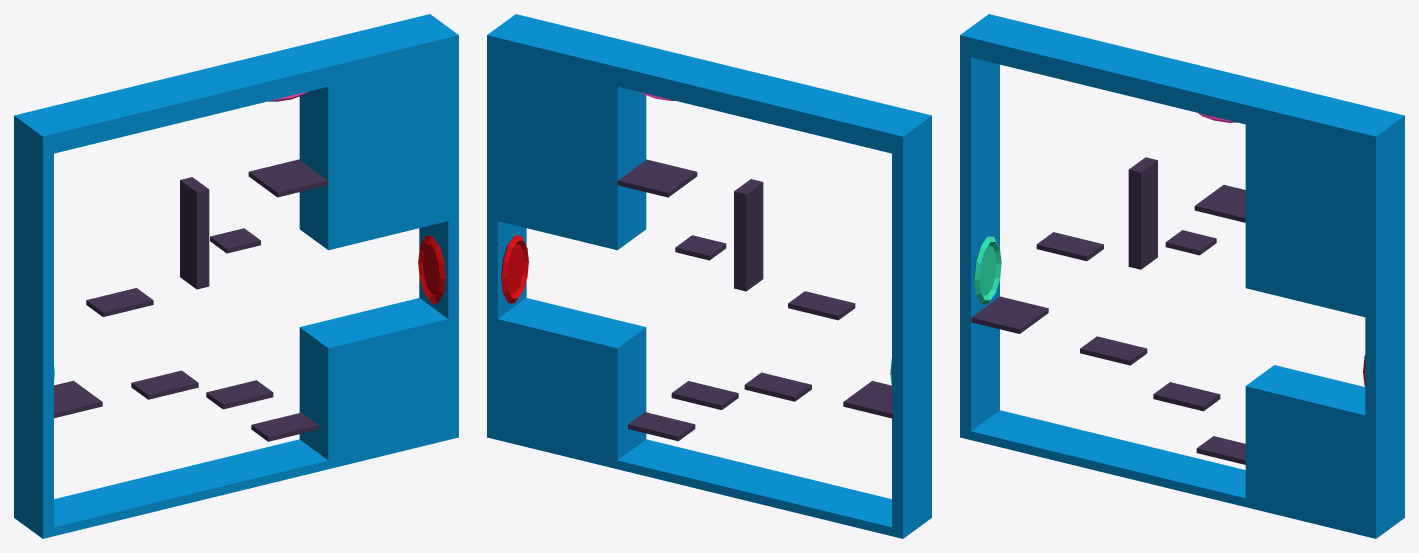
The model's file is sala A-fase1.glb.
3 views of the same model, side by side, from view 1: azimuth 30°, elevation 25°; view 2: azimuth 150°, elevation 25°; view 3: azimuth 330°, elevation 25° (orthographic).
Visible parts, largest first — view 1: MeshA-col, plataforma.002-col, plataforma.008-col, portalRed-col, plataforma.007-col, plataforma.006-col, plataforma.004-col, plataforma.005-col, plataforma.003-col, plataforma.001-col; view 2: MeshA-col, plataforma.002-col, plataforma.008-col, portalRed-col, plataforma.007-col, plataforma.006-col, plataforma.005-col, plataforma.003-col, plataforma.004-col, plataforma.001-col; view 3: MeshA-col, plataforma.002-col, plataforma.007-col, portalVerde-col, plataforma.008-col, plataforma.003-col, plataforma.006-col, plataforma.005-col, plataforma.004-col, plataforma.001-col.
Boxes of the visible parts, x1=… form: MeshA-col: x1=14, y1=14, x2=458, y2=538; plataforma.002-col: x1=180, y1=177, x2=209, y2=289; plataforma.008-col: x1=248, y1=159, x2=327, y2=197; portalRed-col: x1=418, y1=236, x2=445, y2=303; plataforma.007-col: x1=54, y1=380, x2=102, y2=418; plataforma.006-col: x1=131, y1=370, x2=198, y2=399; plataforma.004-col: x1=251, y1=412, x2=318, y2=441; plataforma.005-col: x1=206, y1=380, x2=273, y2=409; plataforma.003-col: x1=86, y1=288, x2=153, y2=316; plataforma.001-col: x1=210, y1=228, x2=260, y2=253; MeshA-col: x1=487, y1=14, x2=931, y2=538; plataforma.002-col: x1=734, y1=179, x2=763, y2=291; plataforma.008-col: x1=618, y1=159, x2=697, y2=197; portalRed-col: x1=501, y1=235, x2=528, y2=303; plataforma.007-col: x1=843, y1=381, x2=893, y2=418; plataforma.006-col: x1=744, y1=372, x2=811, y2=401; plataforma.005-col: x1=671, y1=381, x2=738, y2=409; plataforma.003-col: x1=788, y1=291, x2=855, y2=320; plataforma.004-col: x1=628, y1=412, x2=695, y2=441; plataforma.001-col: x1=675, y1=235, x2=726, y2=260; MeshA-col: x1=960, y1=14, x2=1404, y2=538; plataforma.002-col: x1=1128, y1=157, x2=1157, y2=269; plataforma.007-col: x1=971, y1=296, x2=1048, y2=333; portalVerde-col: x1=974, y1=236, x2=1001, y2=304; plataforma.008-col: x1=1194, y1=185, x2=1245, y2=222; plataforma.003-col: x1=1036, y1=232, x2=1103, y2=261; plataforma.006-col: x1=1080, y1=336, x2=1147, y2=365; plataforma.005-col: x1=1153, y1=382, x2=1220, y2=411; plataforma.004-col: x1=1196, y1=436, x2=1245, y2=464; plataforma.001-col: x1=1165, y1=230, x2=1216, y2=255.
Size of the model in its own units: 97.31 by 89.91 by 11.74.
